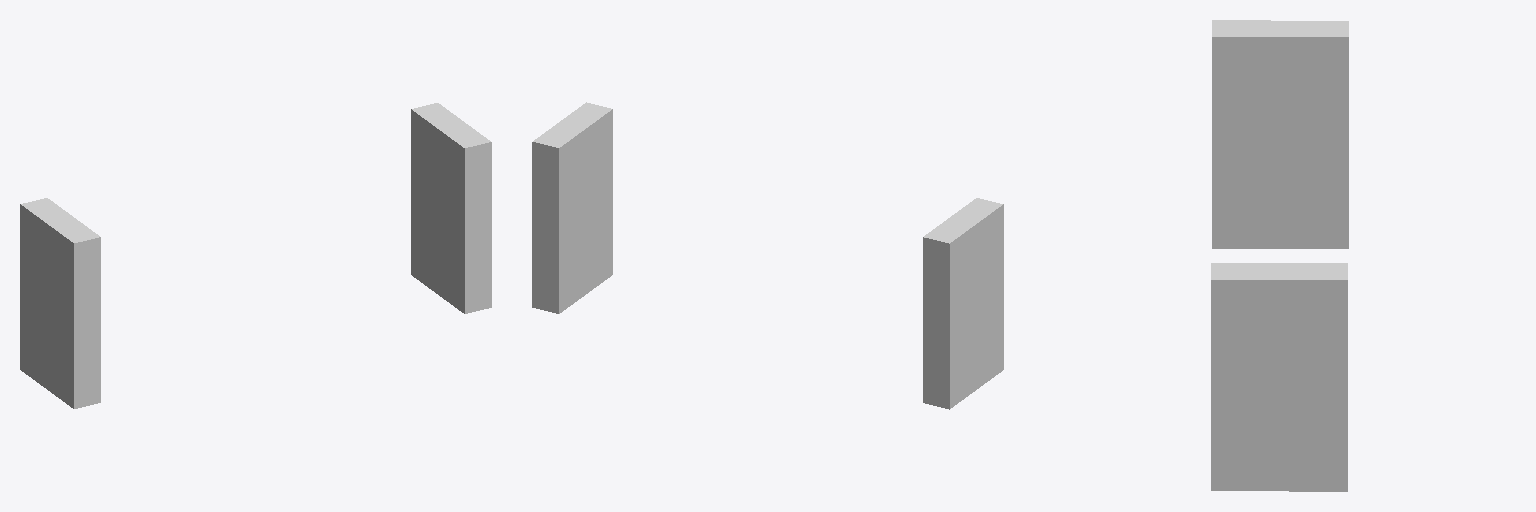
robot.urdf — robotiq_arg2f_85_model:
<?xml version="1.0" encoding="utf-8"?>
<!-- =================================================================================== -->
<!-- |    This document was autogenerated by xacro from robotiq_2f_85_macro.xacro      | -->
<!-- |    EDITING THIS FILE BY HAND IS NOT RECOMMENDED                                 | -->
<!-- =================================================================================== -->
<robot name="robotiq_arg2f_85_model">
  <!-- This line was removed by Kinova because we replaced the transmission file with our own 
    <xacro:include filename="$(find robotiq_2f_85_gripper_visualization)/urdf/robotiq_arg2f_transmission.xacro" /> -->
  <!-- Tool frame used by the arm -->
  <link name="world" />
  <link name="tool_frame"/>
  <joint name="tool_frame_joint" type="fixed">
    <origin rpy="0 0 0" xyz="0 0 0.120"/>
    <parent link="world"/>
    <child link="tool_frame"/>
    <axis xyz="0 0 0"/>
  </joint>
  <!-- This joint was added by Kinova -->
  <joint name="gripper_base_joint" type="fixed">
    <parent link="world"/>
    <child link="robotiq_arg2f_base_link"/>
    <origin rpy="0.0 0.0 1.57" xyz="0.0 0.0 0.0"/>
  </joint>
  <link name="robotiq_arg2f_base_link">
    <inertial>
      <origin rpy="0 0 0" xyz="8.625E-08 -4.6583E-06 0.03145"/>
      <mass value="0.22652"/>
      <inertia ixx="0.00020005" ixy="-4.2442E-10" ixz="-2.9069E-10" iyy="0.00017832" iyz="-3.4402E-08" izz="0.00013478"/>
    </inertial>
    <visual>
      <origin rpy="0 0 0" xyz="0 0 0"/>
      <geometry>
        <!-- The DAE file doesn't show well in Gazebo so we're using the STL instead -->
        <!-- <mesh filename="package://kortex_description/grippers/robotiq_2f_85/meshes/visual/robotiq_arg2f_85_base_link.dae" scale="0.001 0.001 0.001"/> -->
        <mesh filename="package://kortex_description/grippers/robotiq_2f_85/meshes/collision/robotiq_arg2f_base_link.STL"/>
      </geometry>
      <material name="">
        <color rgba="0.1 0.1 0.1 1"/>
      </material>
    </visual>
    <collision>
      <origin rpy="0 0 0" xyz="0 0 0"/>
      <geometry>
        <mesh filename="package://kortex_description/grippers/robotiq_2f_85/meshes/collision/robotiq_arg2f_base_link.STL"/>
      </geometry>
    </collision>
  </link>
  <gazebo reference="robotiq_arg2f_base_link">
    <material>Gazebo/Black</material>
  </gazebo>
  <link name="left_outer_knuckle">
    <inertial>
      <origin rpy="0 0 0" xyz="-0.000200000000003065 0.0199435877845359 0.0292245259211331"/>
      <mass value="0.00853198276973456"/>
      <inertia ixx="2.89328108496468E-06" ixy="-1.57935047237397E-19" ixz="-1.93980378593255E-19" iyy="1.86719750325683E-06" iyz="-1.21858577871576E-06" izz="1.21905238907251E-06"/>
    </inertial>
    <visual>
      <origin rpy="0 0 0" xyz="0 0 0"/>
      <geometry>
        <mesh filename="package://kortex_description/grippers/robotiq_2f_85/meshes/visual/robotiq_arg2f_85_outer_knuckle.dae" scale="0.001 0.001 0.001"/>
      </geometry>
      <material name="">
        <color rgba="0.792156862745098 0.819607843137255 0.933333333333333 1"/>
      </material>
    </visual>
    <collision>
      <origin rpy="0 0 0" xyz="0 0 0"/>
      <geometry>
        <mesh filename="package://kortex_description/grippers/robotiq_2f_85/meshes/collision/robotiq_arg2f_85_outer_knuckle.dae" scale="0.001 0.001 0.001"/>
      </geometry>
    </collision>
  </link>
  <link name="left_outer_finger">
    <inertial>
      <origin rpy="0 0 0" xyz="0.00030115855001899 0.0373907951953854 -0.0208027427000385"/>
      <mass value="0.022614240507152"/>
      <inertia ixx="1.52518312458174E-05" ixy="9.76583423954399E-10" ixz="-5.43838577022588E-10" iyy="6.17694243867776E-06" iyz="6.78636130740228E-06" izz="1.16494917907219E-05"/>
    </inertial>
    <visual>
      <origin rpy="0 0 0" xyz="0 0 0"/>
      <geometry>
        <mesh filename="package://kortex_description/grippers/robotiq_2f_85/meshes/visual/robotiq_arg2f_85_outer_finger.dae" scale="0.001 0.001 0.001"/>
      </geometry>
      <material name="">
        <color rgba="0.1 0.1 0.1 1"/>
      </material>
    </visual>
    <collision>
      <origin rpy="0 0 0" xyz="0 0 0"/>
      <geometry>
        <mesh filename="package://kortex_description/grippers/robotiq_2f_85/meshes/collision/robotiq_arg2f_85_outer_finger.dae" scale="0.001 0.001 0.001"/>
      </geometry>
    </collision>
  </link>
  <link name="left_inner_finger">
    <inertial>
      <origin rpy="0 0 0" xyz="0.000299999999999317 0.0160078233491243 -0.0136945669206257"/>
      <mass value="0.0104003125914103"/>
      <inertia ixx="2.71909453810972E-06" ixy="1.35402465472579E-21" ixz="-7.1817349065269E-22" iyy="7.69100314106116E-07" iyz="6.74715432769696E-07" izz="2.30315190420171E-06"/>
    </inertial>
    <visual>
      <origin rpy="0 0 0" xyz="0 0 0"/>
      <geometry>
        <mesh filename="package://kortex_description/grippers/robotiq_2f_85/meshes/visual/robotiq_arg2f_85_inner_finger.dae" scale="0.001 0.001 0.001"/>
      </geometry>
      <material name="">
        <color rgba="0.1 0.1 0.1 1"/>
      </material>
    </visual>
    <collision>
      <origin rpy="0 0 0" xyz="0 0 0"/>
      <geometry>
        <mesh filename="package://kortex_description/grippers/robotiq_2f_85/meshes/collision/robotiq_arg2f_85_inner_finger.dae" scale="0.001 0.001 0.001"/>
      </geometry>
    </collision>
  </link>
  <link name="left_inner_finger_pad">
    <visual>
      <origin rpy="0 0 0" xyz="0 0 0"/>
      <geometry>
        <box size="0.022 0.00635 0.0375"/>
      </geometry>
      <material name="">
        <color rgba="0.9 0.9 0.9 1"/>
      </material>
    </visual>
    <collision>
      <origin rpy="0 0 0" xyz="0 0 0"/>
      <geometry>
        <box size="0.022 0.00635 0.0375"/>
      </geometry>
      <material name="">
        <color rgba="0.9 0.0 0.0 1"/>
      </material>
    </collision>
  </link>
  <link name="left_inner_knuckle">
    <inertial>
      <origin rpy="0 0 0" xyz="0.000123011831763771 0.0507850843201817 0.00103968640075166"/>
      <mass value="0.0271177346495152"/>
      <inertia ixx="2.61910379223783E-05" ixy="-2.43616858946494E-07" ixz="-6.37789906117123E-09" iyy="2.8270243746167E-06" iyz="-5.37200748039765E-07" izz="2.83695868220296E-05"/>
    </inertial>
    <visual>
      <origin rpy="0 0 0" xyz="0 0 0"/>
      <geometry>
        <mesh filename="package://kortex_description/grippers/robotiq_2f_85/meshes/visual/robotiq_arg2f_85_inner_knuckle.dae" scale="0.001 0.001 0.001"/>
      </geometry>
      <material name="">
        <color rgba="0.1 0.1 0.1 1"/>
      </material>
    </visual>
    <collision>
      <origin rpy="0 0 0" xyz="0 0 0"/>
      <geometry>
        <mesh filename="package://kortex_description/grippers/robotiq_2f_85/meshes/collision/robotiq_arg2f_85_inner_knuckle.dae" scale="0.001 0.001 0.001"/>
      </geometry>
    </collision>
  </link>
  <link name="right_outer_knuckle">
    <inertial>
      <origin rpy="0 0 0" xyz="-0.000200000000003065 0.0199435877845359 0.0292245259211331"/>
      <mass value="0.00853198276973456"/>
      <inertia ixx="2.89328108496468E-06" ixy="-1.57935047237397E-19" ixz="-1.93980378593255E-19" iyy="1.86719750325683E-06" iyz="-1.21858577871576E-06" izz="1.21905238907251E-06"/>
    </inertial>
    <visual>
      <origin rpy="0 0 0" xyz="0 0 0"/>
      <geometry>
        <mesh filename="package://kortex_description/grippers/robotiq_2f_85/meshes/visual/robotiq_arg2f_85_outer_knuckle.dae" scale="0.001 0.001 0.001"/>
      </geometry>
      <material name="">
        <color rgba="0.792156862745098 0.819607843137255 0.933333333333333 1"/>
      </material>
    </visual>
    <collision>
      <origin rpy="0 0 0" xyz="0 0 0"/>
      <geometry>
        <mesh filename="package://kortex_description/grippers/robotiq_2f_85/meshes/collision/robotiq_arg2f_85_outer_knuckle.dae" scale="0.001 0.001 0.001"/>
      </geometry>
    </collision>
  </link>
  <link name="right_outer_finger">
    <inertial>
      <origin rpy="0 0 0" xyz="0.00030115855001899 0.0373907951953854 -0.0208027427000385"/>
      <mass value="0.022614240507152"/>
      <inertia ixx="1.52518312458174E-05" ixy="9.76583423954399E-10" ixz="-5.43838577022588E-10" iyy="6.17694243867776E-06" iyz="6.78636130740228E-06" izz="1.16494917907219E-05"/>
    </inertial>
    <visual>
      <origin rpy="0 0 0" xyz="0 0 0"/>
      <geometry>
        <mesh filename="package://kortex_description/grippers/robotiq_2f_85/meshes/visual/robotiq_arg2f_85_outer_finger.dae" scale="0.001 0.001 0.001"/>
      </geometry>
      <material name="">
        <color rgba="0.1 0.1 0.1 1"/>
      </material>
    </visual>
    <collision>
      <origin rpy="0 0 0" xyz="0 0 0"/>
      <geometry>
        <mesh filename="package://kortex_description/grippers/robotiq_2f_85/meshes/collision/robotiq_arg2f_85_outer_finger.dae" scale="0.001 0.001 0.001"/>
      </geometry>
    </collision>
  </link>
  <link name="right_inner_finger">
    <inertial>
      <origin rpy="0 0 0" xyz="0.000299999999999317 0.0160078233491243 -0.0136945669206257"/>
      <mass value="0.0104003125914103"/>
      <inertia ixx="2.71909453810972E-06" ixy="1.35402465472579E-21" ixz="-7.1817349065269E-22" iyy="7.69100314106116E-07" iyz="6.74715432769696E-07" izz="2.30315190420171E-06"/>
    </inertial>
    <visual>
      <origin rpy="0 0 0" xyz="0 0 0"/>
      <geometry>
        <mesh filename="package://kortex_description/grippers/robotiq_2f_85/meshes/visual/robotiq_arg2f_85_inner_finger.dae" scale="0.001 0.001 0.001"/>
      </geometry>
      <material name="">
        <color rgba="0.1 0.1 0.1 1"/>
      </material>
    </visual>
    <collision>
      <origin rpy="0 0 0" xyz="0 0 0"/>
      <geometry>
        <mesh filename="package://kortex_description/grippers/robotiq_2f_85/meshes/collision/robotiq_arg2f_85_inner_finger.dae" scale="0.001 0.001 0.001"/>
      </geometry>
    </collision>
  </link>
  <link name="right_inner_finger_pad">
    <visual>
      <origin rpy="0 0 0" xyz="0 0 0"/>
      <geometry>
        <box size="0.022 0.00635 0.0375"/>
      </geometry>
      <material name="">
        <color rgba="0.9 0.9 0.9 1"/>
      </material>
    </visual>
    <collision>
      <origin rpy="0 0 0" xyz="0 0 0"/>
      <geometry>
        <box size="0.022 0.00635 0.0375"/>
      </geometry>
      <material name="">
        <color rgba="0.9 0.0 0.0 1"/>
      </material>
    </collision>
  </link>
  <link name="right_inner_knuckle">
    <inertial>
      <origin rpy="0 0 0" xyz="0.000123011831763771 0.0507850843201817 0.00103968640075166"/>
      <mass value="0.0271177346495152"/>
      <inertia ixx="2.61910379223783E-05" ixy="-2.43616858946494E-07" ixz="-6.37789906117123E-09" iyy="2.8270243746167E-06" iyz="-5.37200748039765E-07" izz="2.83695868220296E-05"/>
    </inertial>
    <visual>
      <origin rpy="0 0 0" xyz="0 0 0"/>
      <geometry>
        <mesh filename="package://kortex_description/grippers/robotiq_2f_85/meshes/visual/robotiq_arg2f_85_inner_knuckle.dae" scale="0.001 0.001 0.001"/>
      </geometry>
      <material name="">
        <color rgba="0.1 0.1 0.1 1"/>
      </material>
    </visual>
    <collision>
      <origin rpy="0 0 0" xyz="0 0 0"/>
      <geometry>
        <mesh filename="package://kortex_description/grippers/robotiq_2f_85/meshes/collision/robotiq_arg2f_85_inner_knuckle.dae" scale="0.001 0.001 0.001"/>
      </geometry>
    </collision>
  </link>
  <joint name="finger_joint" type="revolute">
    <origin rpy="0 0 3.14159265359" xyz="0 -0.0306011 0.054904"/>
    <parent link="robotiq_arg2f_base_link"/>
    <child link="left_outer_knuckle"/>
    <axis xyz="1 0 0"/>
    <limit effort="1000" lower="0" upper="0.8" velocity="2.0"/>
  </joint>
  <joint name="left_outer_finger_joint" type="fixed">
    <origin rpy="0 0 0" xyz="0 0.0315 -0.0041"/>
    <parent link="left_outer_knuckle"/>
    <child link="left_outer_finger"/>
    <axis xyz="1 0 0"/>
  </joint>
  <joint name="left_inner_knuckle_joint" type="revolute">
    <!-- <origin xyz="0 ${reflect * -0.0127} 0.06142" rpy="${pi / 2 + .725} 0 ${(reflect - 1) * pi / 2}" /> -->
    <origin rpy="0 0 3.14159265359" xyz="0 -0.0127 0.06142"/>
    <parent link="robotiq_arg2f_base_link"/>
    <child link="left_inner_knuckle"/>
    <axis xyz="1 0 0"/>
    <limit effort="1000" lower="0" upper="0.8757" velocity="2.0"/>
    <mimic joint="finger_joint" multiplier="1" offset="0"/>
  </joint>
  <joint name="left_inner_finger_joint" type="revolute">
    <origin rpy="0 0 0" xyz="0 0.0061 0.0471"/>
    <parent link="left_outer_finger"/>
    <child link="left_inner_finger"/>
    <axis xyz="1 0 0"/>
    <limit effort="1000" lower="-0.8757" upper="0.8757" velocity="2.0"/>
    <mimic joint="finger_joint" multiplier="-1" offset="0"/>
  </joint>
  <joint name="left_inner_finger_pad_joint" type="fixed">
    <origin rpy="0 0 0" xyz="0 -0.0220203446692936 0.03242"/>
    <parent link="left_inner_finger"/>
    <child link="left_inner_finger_pad"/>
    <axis xyz="0 0 1"/>
  </joint>
  <joint name="right_outer_knuckle_joint" type="revolute">
    <origin rpy="0 0 0" xyz="0 0.0306011 0.054904"/>
    <parent link="robotiq_arg2f_base_link"/>
    <child link="right_outer_knuckle"/>
    <axis xyz="1 0 0"/>
    <limit effort="1000" lower="0" upper="0.81" velocity="2.0"/>
    <mimic joint="finger_joint" multiplier="1" offset="0"/>
  </joint>
  <joint name="right_outer_finger_joint" type="fixed">
    <origin rpy="0 0 0" xyz="0 0.0315 -0.0041"/>
    <parent link="right_outer_knuckle"/>
    <child link="right_outer_finger"/>
    <axis xyz="1 0 0"/>
  </joint>
  <joint name="right_inner_knuckle_joint" type="revolute">
    <!-- <origin xyz="0 ${reflect * -0.0127} 0.06142" rpy="${pi / 2 + .725} 0 ${(reflect - 1) * pi / 2}" /> -->
    <origin rpy="0 0 0.0" xyz="0 0.0127 0.06142"/>
    <parent link="robotiq_arg2f_base_link"/>
    <child link="right_inner_knuckle"/>
    <axis xyz="1 0 0"/>
    <limit effort="1000" lower="0" upper="0.8757" velocity="2.0"/>
    <mimic joint="finger_joint" multiplier="1" offset="0"/>
  </joint>
  <joint name="right_inner_finger_joint" type="revolute">
    <origin rpy="0 0 0" xyz="0 0.0061 0.0471"/>
    <parent link="right_outer_finger"/>
    <child link="right_inner_finger"/>
    <axis xyz="1 0 0"/>
    <limit effort="1000" lower="-0.8757" upper="0.8757" velocity="2.0"/>
    <mimic joint="finger_joint" multiplier="-1" offset="0"/>
  </joint>
  <joint name="right_inner_finger_pad_joint" type="fixed">
    <origin rpy="0 0 0" xyz="0 -0.0220203446692936 0.03242"/>
    <parent link="right_inner_finger"/>
    <child link="right_inner_finger_pad"/>
    <axis xyz="0 0 1"/>
  </joint>
  <!-- Transmissions are loaded in the generic kortex xacro when simulation is enabled -->
  <!-- <xacro:robotiq_arg2f_transmission prefix="${prefix}"/> -->
  <!--</xacro:macro>-->
</robot>

--- Render facts (derived) ---
Views: 3 orthographic renders of the robot side by side, from view 1: azimuth 30°, elevation 25°; view 2: azimuth 150°, elevation 25°; view 3: azimuth 270°, elevation 25°.
Robot: robotiq_arg2f_85_model — 13 links, 12 joints (6 revolute, 6 fixed); root link world; default pose: every joint at zero.
Links seen in each view (by area): view 1: left_inner_finger_pad, right_inner_finger_pad; view 2: left_inner_finger_pad, right_inner_finger_pad; view 3: left_inner_finger_pad, right_inner_finger_pad.
Boxes of the visible links, x1,y1,x2,y2 form: left_inner_finger_pad: (411, 103, 491, 313); right_inner_finger_pad: (20, 198, 100, 408); left_inner_finger_pad: (532, 102, 612, 313); right_inner_finger_pad: (923, 198, 1003, 409); left_inner_finger_pad: (1211, 263, 1347, 491); right_inner_finger_pad: (1212, 20, 1348, 248).
Size in the robot's own frame: 0.0987 by 0.0221 by 0.0375 metres.
Meshes: 5 distinct files referenced, 0 mesh visuals loaded (none loaded); not drawn: 9 (reference not matched to a file when rendering).